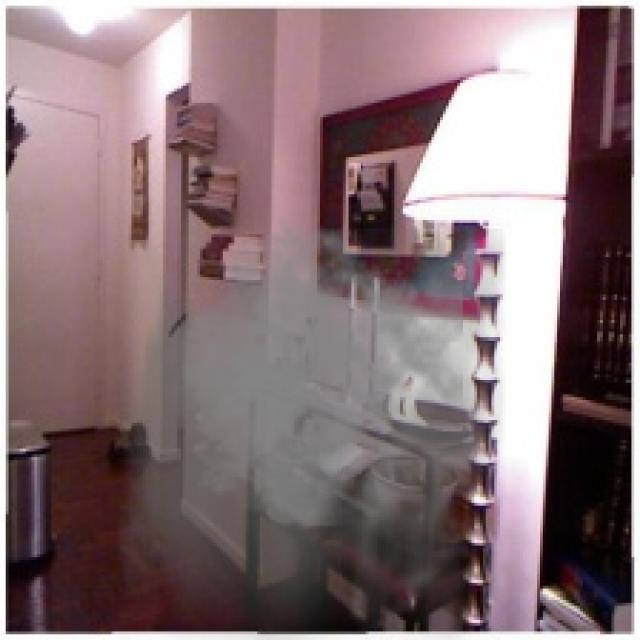Smoke: (117, 214, 509, 637)
